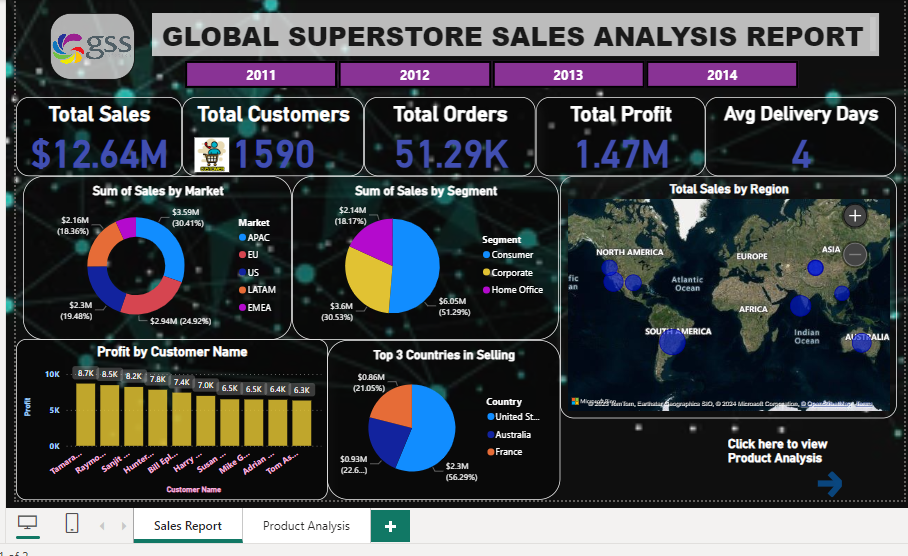

Layout of this report page (visuals, bound fields, positions):
{"tool":"powerbi","page":{"name":"Sales Analysis Report","canvas":[1280,720],"ordinal":0},"visuals":[{"type":"map","fields":{"Category":["Orders.Region"],"Size":["Sum(Orders.Sales)"]},"box":[782.8,253.6,485.5,349.4],"z":0},{"type":"card","title":"Total Sales","fields":{"Values":["Sum(Orders.Sales)"]},"box":[0,129.4,238.1,124.2],"z":1000},{"type":"card","title":"Total Customers","fields":{"Values":["Orders.Total Customers"]},"box":[238.5,129.3,262,124.3],"z":2000},{"type":"card","title":"Avg Delivery Days","fields":{"Values":["Avg(Orders.Time_Taken_To_Ship)"]},"box":[992.8,129.3,275.5,124.3],"z":3000},{"type":"slicer","title":"Years","fields":{"Values":["Orders.Order Date.Variation.Date Hierarchy.Year"]},"box":[217.4,80.6,933.1,49],"z":4000},{"type":"clusteredColumnChart","title":" Profit by Customer Name","fields":{"Category":["Orders.Customer Name"],"Y":["Sum(Orders.Profit)"]},"box":[0,488.8,448.5,231.8],"z":5000},{"type":"pieChart","title":"Sum of Sales by Segment","fields":{"Category":["Orders.Segment"],"Y":["Sum(Orders.Sales)"]},"box":[397.4,253.4,384.5,236.2],"z":6000},{"type":"image","box":[49,18.7,122.4,96.5],"z":7000},{"type":"donutChart","title":"Sum of Sales by Market","fields":{"Category":["Orders.Market"],"Y":["Sum(Orders.Sales)"]},"box":[10.1,253.4,387.4,236.2],"z":8000},{"type":"textbox","box":[195.8,18.7,1046.9,61.9],"z":9000},{"type":"pieChart","title":"Top  3 Countries in Selling","fields":{"Y":["Sum(Orders.Sales)"],"Category":["Orders.Country"]},"box":[447.8,489.6,335.5,230.4],"z":10000},{"type":"actionButton","title":"Click here to view Product Analysis","box":[1025.3,627.8,168.5,92.2],"z":11000},{"type":"card","title":"Total Profit","fields":{"Values":["Sum(Orders.Profit)"]},"box":[748.7,129.4,243.2,124.2],"z":12000},{"type":"card","title":"Total Orders","fields":{"Values":["CountNonNull(Orders.Order ID)"]},"box":[500.3,129.4,246.7,124.2],"z":13000},{"type":"image","box":[252,193,60.5,60.5],"z":14000}]}

Visuals, with their boxes on the page's 1280x720 design canvas (x1, y1, x2, y2). These are canvas units, not pixel positions in the 908x556 screenshot, which may show the page scaled, cropped or inside an application window:
map - Orders.Region x Sum(Orders.Sales): <box>783,254,1268,603</box>
"Total Sales" card: <box>0,129,238,254</box>
"Total Customers" card: <box>238,129,500,254</box>
"Avg Delivery Days" card: <box>993,129,1268,254</box>
"Years" slicer: <box>217,81,1150,130</box>
" Profit by Customer Name" clusteredColumnChart: <box>0,489,448,721</box>
"Sum of Sales by Segment" pieChart: <box>397,253,782,490</box>
image: <box>49,19,171,115</box>
"Sum of Sales by Market" donutChart: <box>10,253,398,490</box>
textbox: <box>196,19,1243,81</box>
"Top  3 Countries in Selling" pieChart: <box>448,490,783,720</box>
"Click here to view Product Analysis" actionButton: <box>1025,628,1194,720</box>
"Total Profit" card: <box>749,129,992,254</box>
"Total Orders" card: <box>500,129,747,254</box>
image: <box>252,193,312,254</box>
